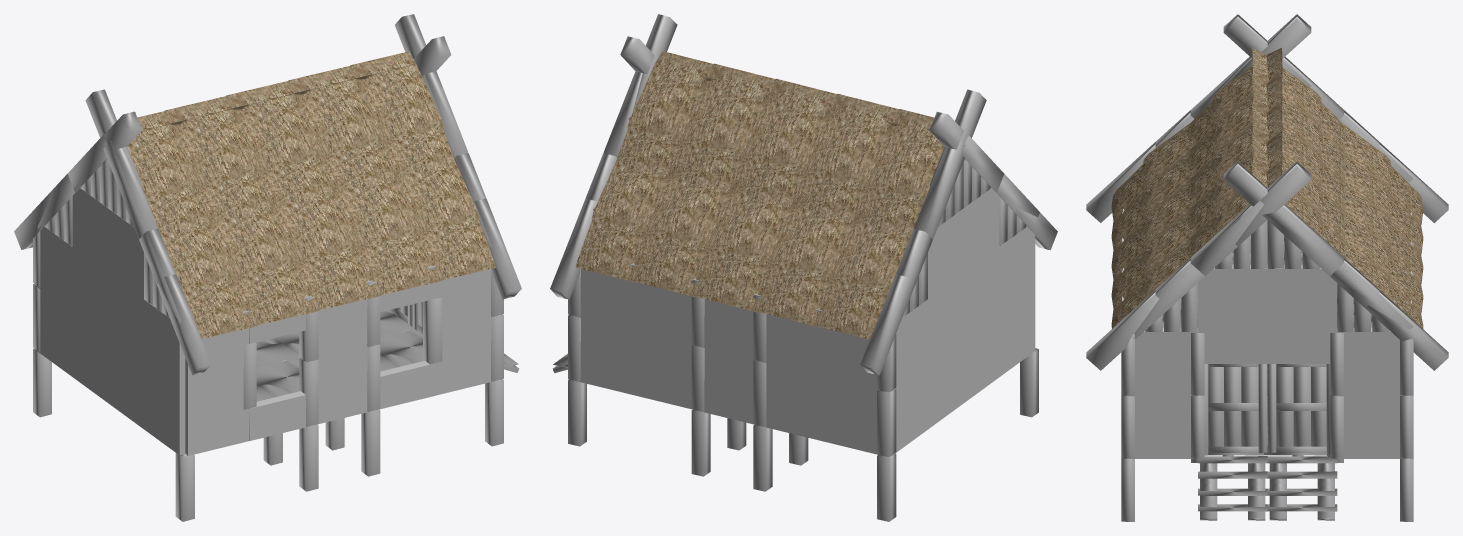
Rendered from DevHouse2.fbx.
3 views of the same model, side by side, from view 1: azimuth 30°, elevation 25°; view 2: azimuth 150°, elevation 25°; view 3: azimuth 270°, elevation 25° (orthographic). The views are drawn at different scales.
Parts seen in each view (by area): view 1: plank_58; view 2: plank_58; view 3: plank_58.
Boxes of the visible parts, x1=… form: plank_58: x1=14, y1=14, x2=521, y2=521; plank_58: x1=550, y1=14, x2=1057, y2=521; plank_58: x1=1086, y1=14, x2=1448, y2=521.
Bounding box in the file's own units: 1223 × 1125 × 1040.
